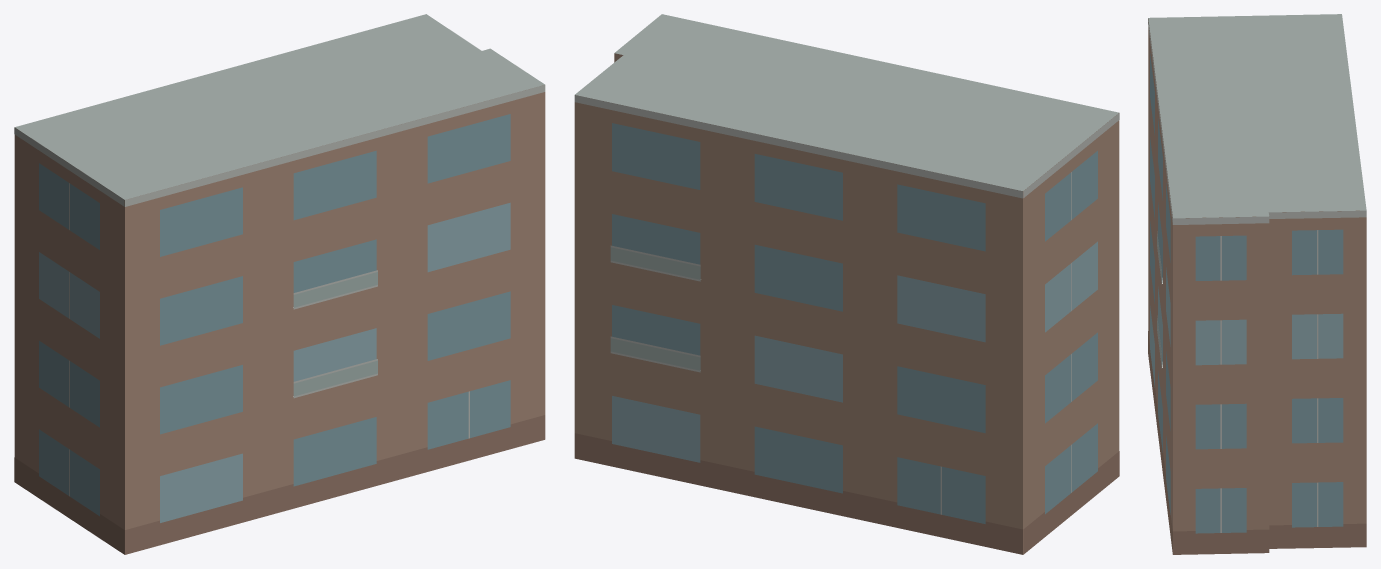
File: survey-upis-32925750.glb
3 renders of one model, left to right at view 1: azimuth 30°, elevation 25°; view 2: azimuth 150°, elevation 25°; view 3: azimuth 270°, elevation 25°, orthographic. The views are drawn at different scales.
Parts seen in each view (by area): view 1: survey-upis-32925750.tmp; view 2: survey-upis-32925750.tmp; view 3: survey-upis-32925750.tmp.
Boxes of the visible parts, left/top/right/bottom form: survey-upis-32925750.tmp: left=14, top=14, right=545, bottom=554; survey-upis-32925750.tmp: left=574, top=14, right=1119, bottom=554; survey-upis-32925750.tmp: left=1148, top=14, right=1366, bottom=554.
Size of the model in its own units: 15.83 by 12.15 by 7.16.
